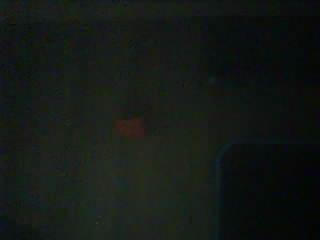lego: (115, 118, 147, 137)
